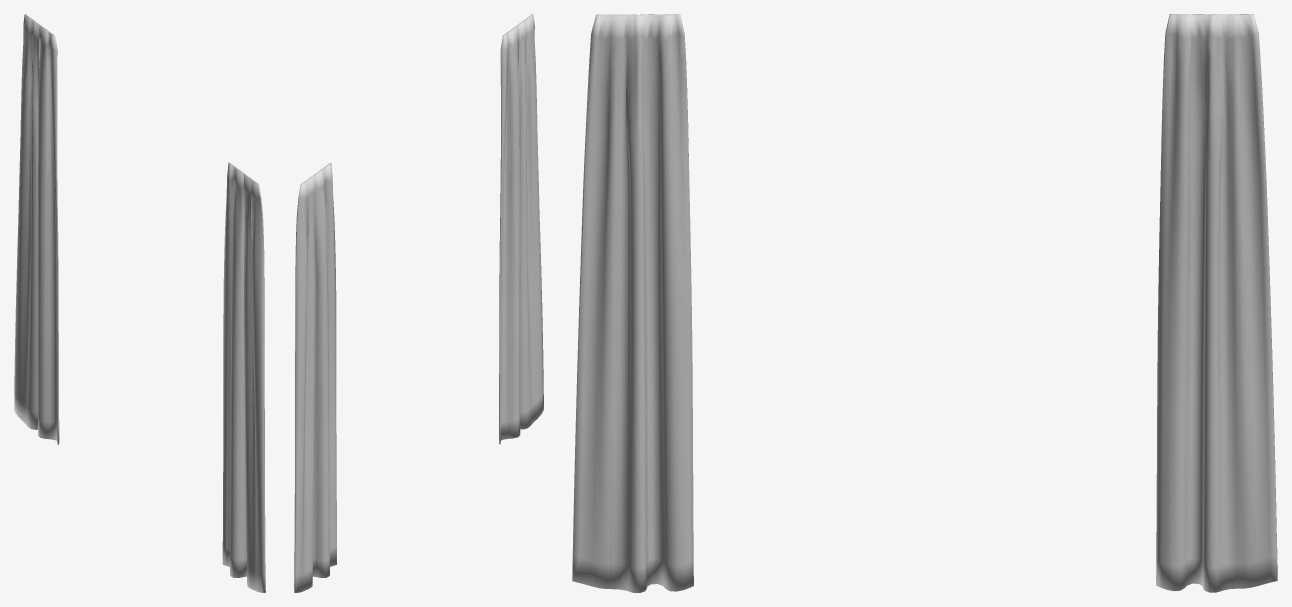
The model's file is curtains.gltf.
3 renders of one model, left to right at view 1: azimuth 30°, elevation 25°; view 2: azimuth 150°, elevation 25°; view 3: azimuth 270°, elevation 25°, orthographic. The views are drawn at different scales.
Parts seen in each view (by area): view 1: curtain.001; view 2: curtain.001; view 3: curtain.001.
Part boxes in pixels (x1,y1,x2,y2): curtain.001: [14, 14, 265, 592]; curtain.001: [294, 14, 543, 592]; curtain.001: [572, 14, 1277, 592].
Bounding box in the file's own units: 0.0656 × 1.69 × 1.88.
1 material, 1 textured.
